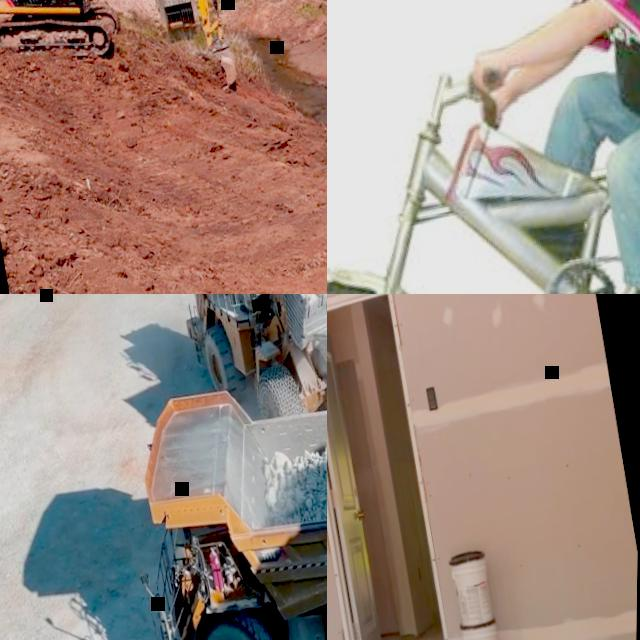machinery: (108, 339, 327, 640), (0, 0, 246, 131), (170, 294, 327, 431)
no_vest: (566, 0, 640, 163)
person: (426, 0, 640, 294)
